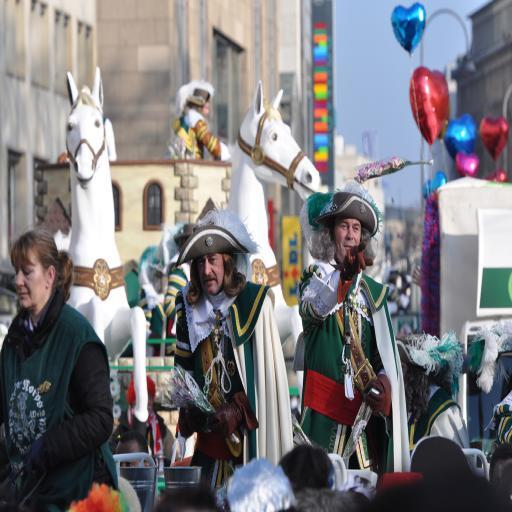horse: (225, 78, 323, 426), (66, 70, 146, 438)
